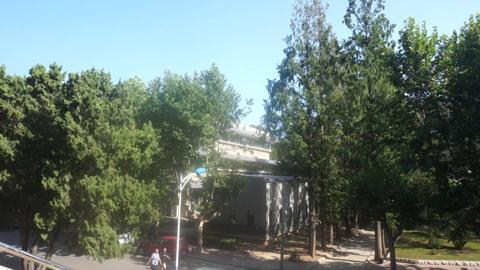UAV: (293, 162, 298, 164)
